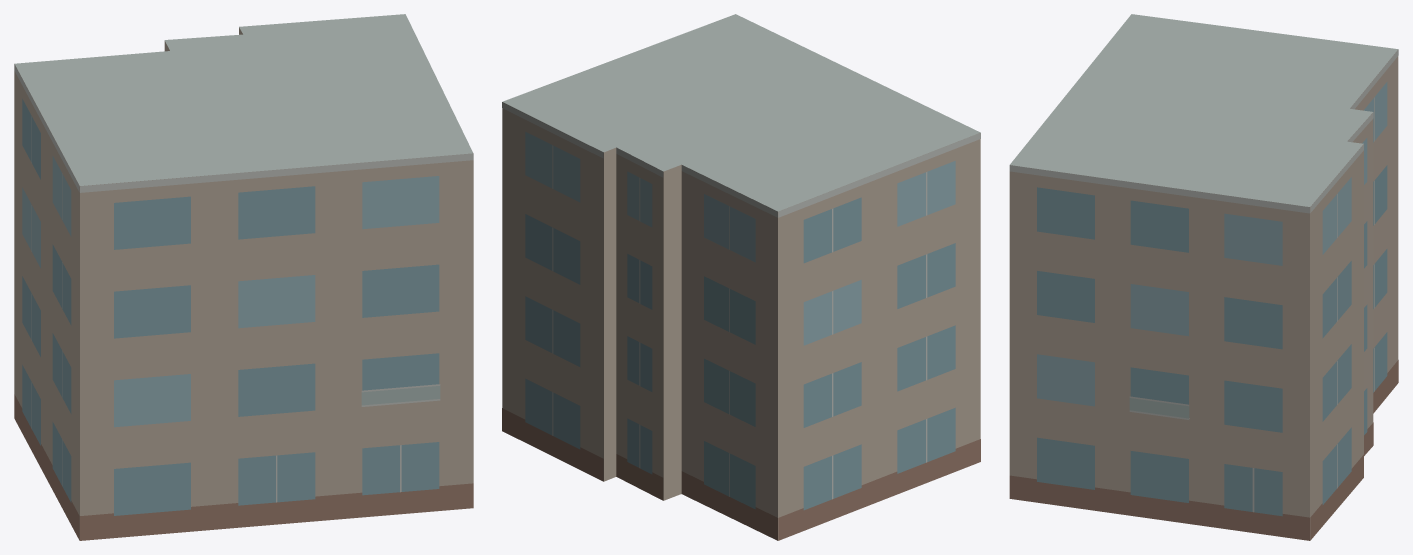
The model's file is survey-upis-32488227.glb.
3 views of the same model, side by side, from view 1: azimuth 30°, elevation 25°; view 2: azimuth 150°, elevation 25°; view 3: azimuth 270°, elevation 25° (orthographic). The views are drawn at different scales.
Visible parts, largest first — view 1: survey-upis-32488227.tmp; view 2: survey-upis-32488227.tmp; view 3: survey-upis-32488227.tmp.
Part boxes in pixels (left/top/right/bottom): survey-upis-32488227.tmp: left=14, top=14, right=473, bottom=540; survey-upis-32488227.tmp: left=502, top=14, right=980, bottom=540; survey-upis-32488227.tmp: left=1009, top=14, right=1398, bottom=540.
Bounding box in the file's own units: 15.77 × 12.7 × 13.42.
